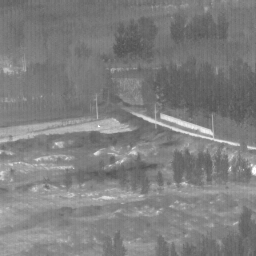aircraft: (98, 126, 100, 128)
